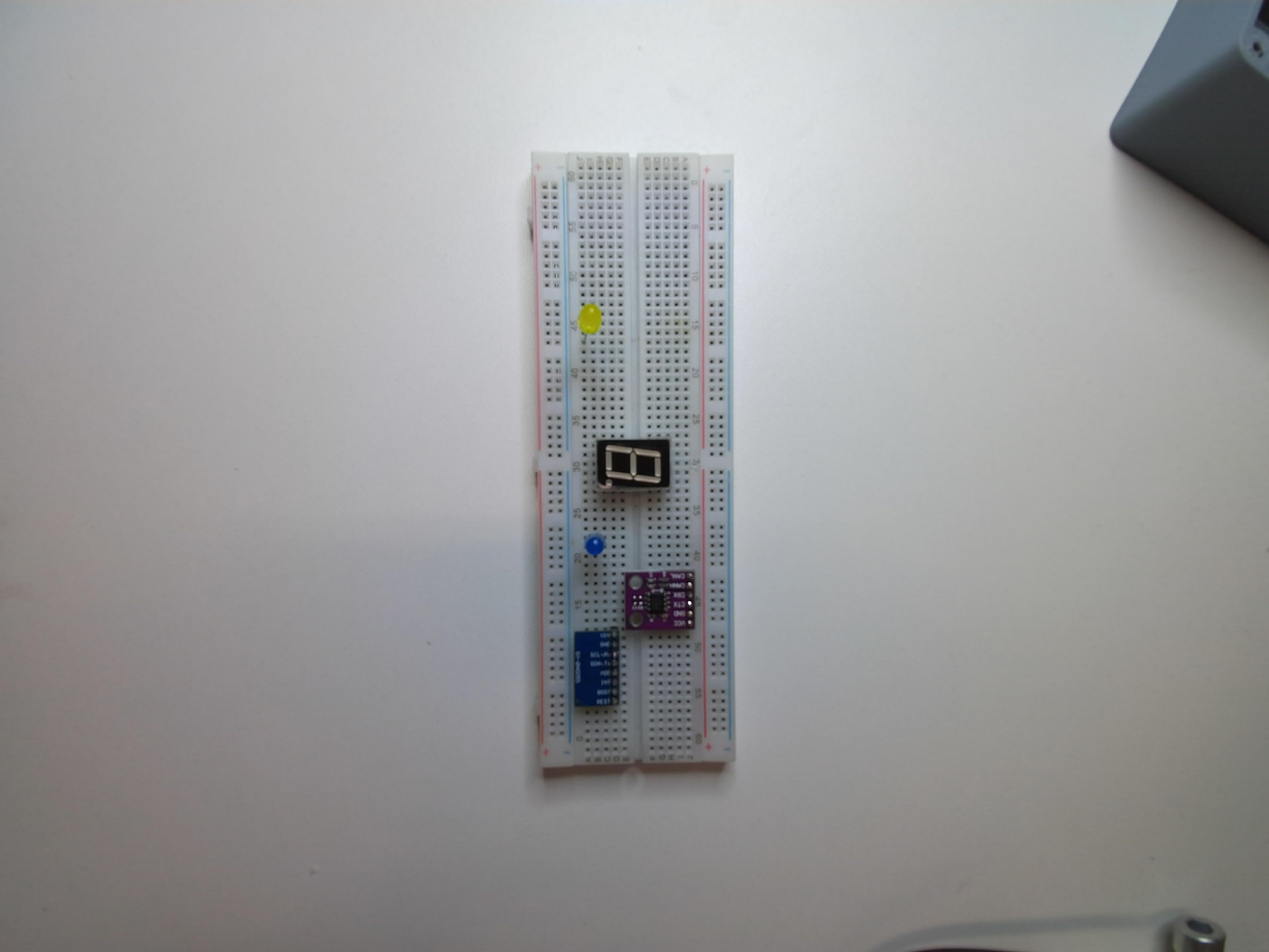base: (519, 147, 740, 788)
blue-board: (573, 630, 624, 710)
blue-led: (586, 537, 604, 557)
digit-board: (595, 436, 675, 493)
purple-board: (620, 568, 696, 634)
yellow-led: (577, 304, 607, 338)
